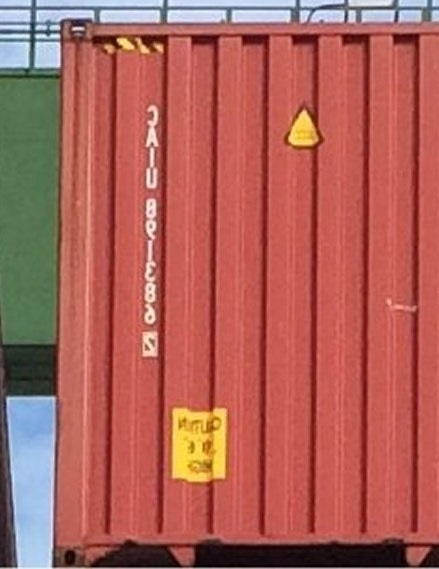container_no_door: (55, 16, 433, 562)
